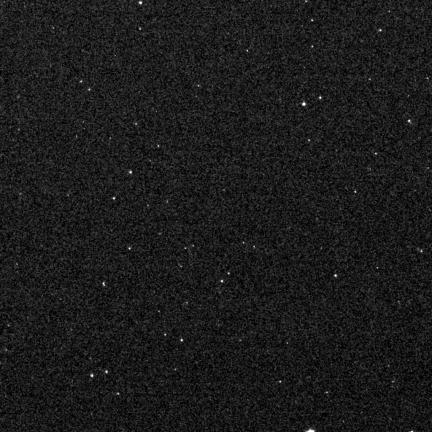blob: (302, 102, 306, 106), (105, 370, 108, 374), (90, 374, 93, 377)
